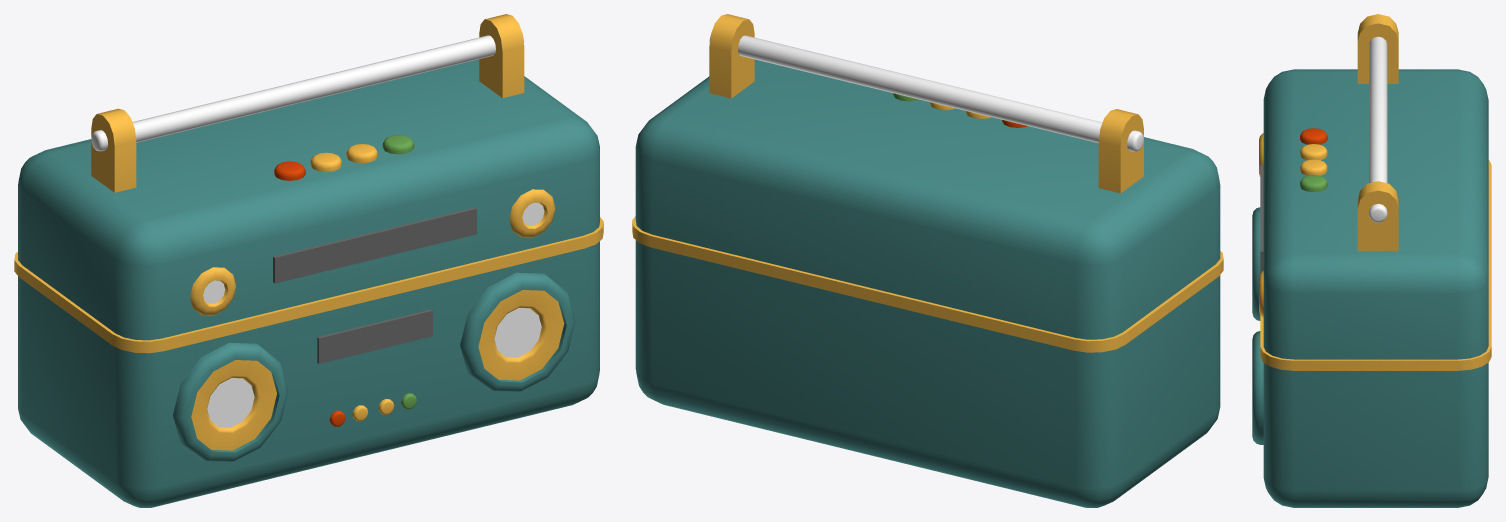
The model's file is Boombox_2.fbx.
3 renders of one model, left to right at view 1: azimuth 30°, elevation 25°; view 2: azimuth 150°, elevation 25°; view 3: azimuth 270°, elevation 25°, orthographic. The views are drawn at different scales.
Parts seen in each view (by area): view 1: Boombox_2; view 2: Boombox_2; view 3: Boombox_2.
Boxes of the visible parts, x1,y1,x2,y2 form: Boombox_2: (14, 14, 603, 507); Boombox_2: (632, 14, 1223, 507); Boombox_2: (1252, 14, 1491, 507).
Size of the model in its own units: 0.647 by 0.449 by 0.3119.
